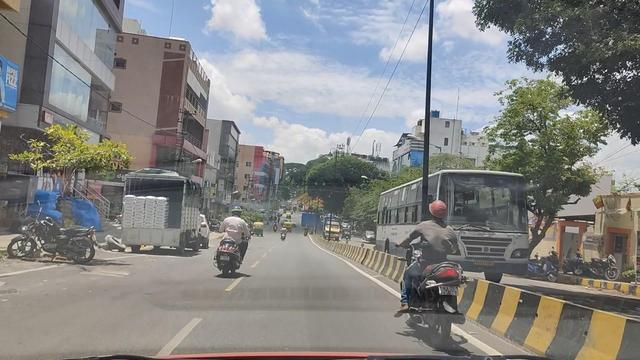HMV: (120, 156, 206, 261)
LMV: (385, 200, 468, 354), (212, 203, 252, 285)
